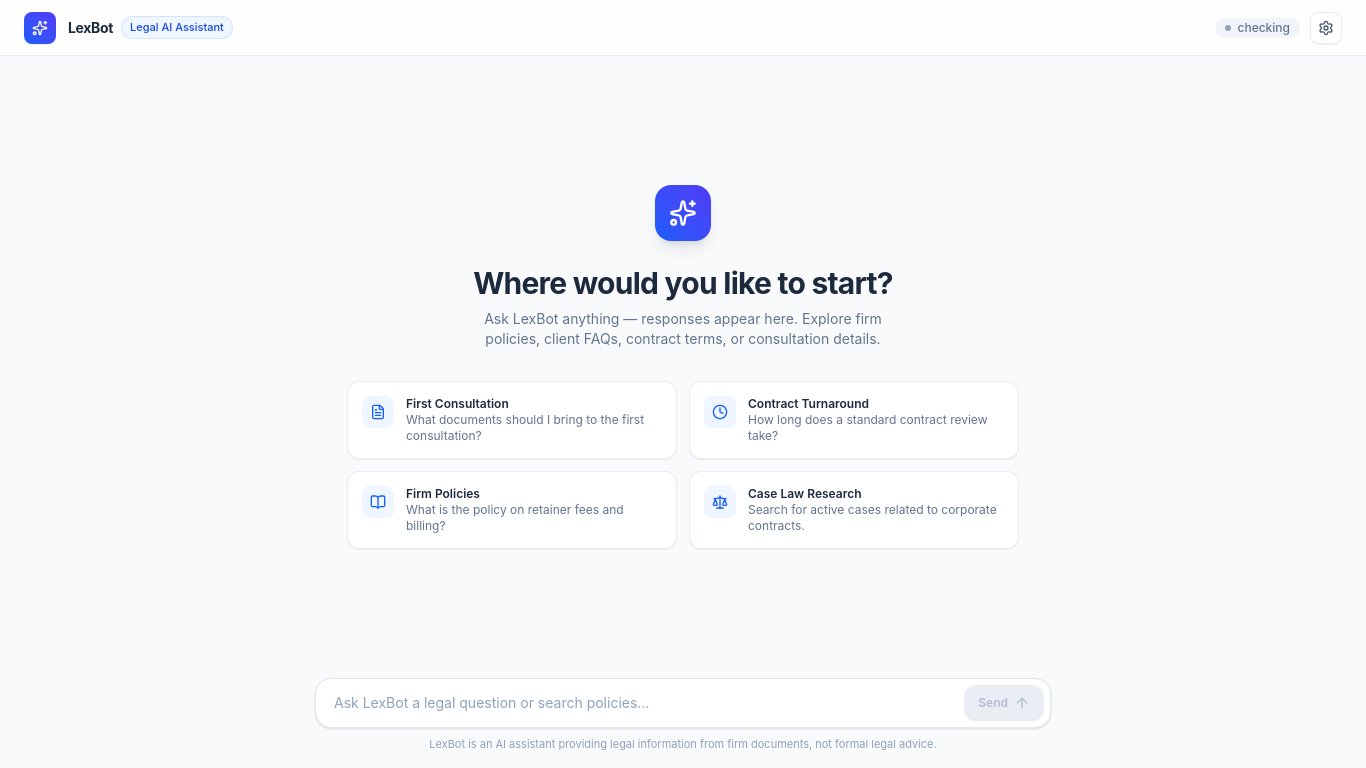
Test case: ChatView › shows an error bubble with Retry on 503 and retry renders the answer (UI-3.1)
Step 1. Type "hello" into the field named "message" → x=643, y=702, box [322,684,964,720]
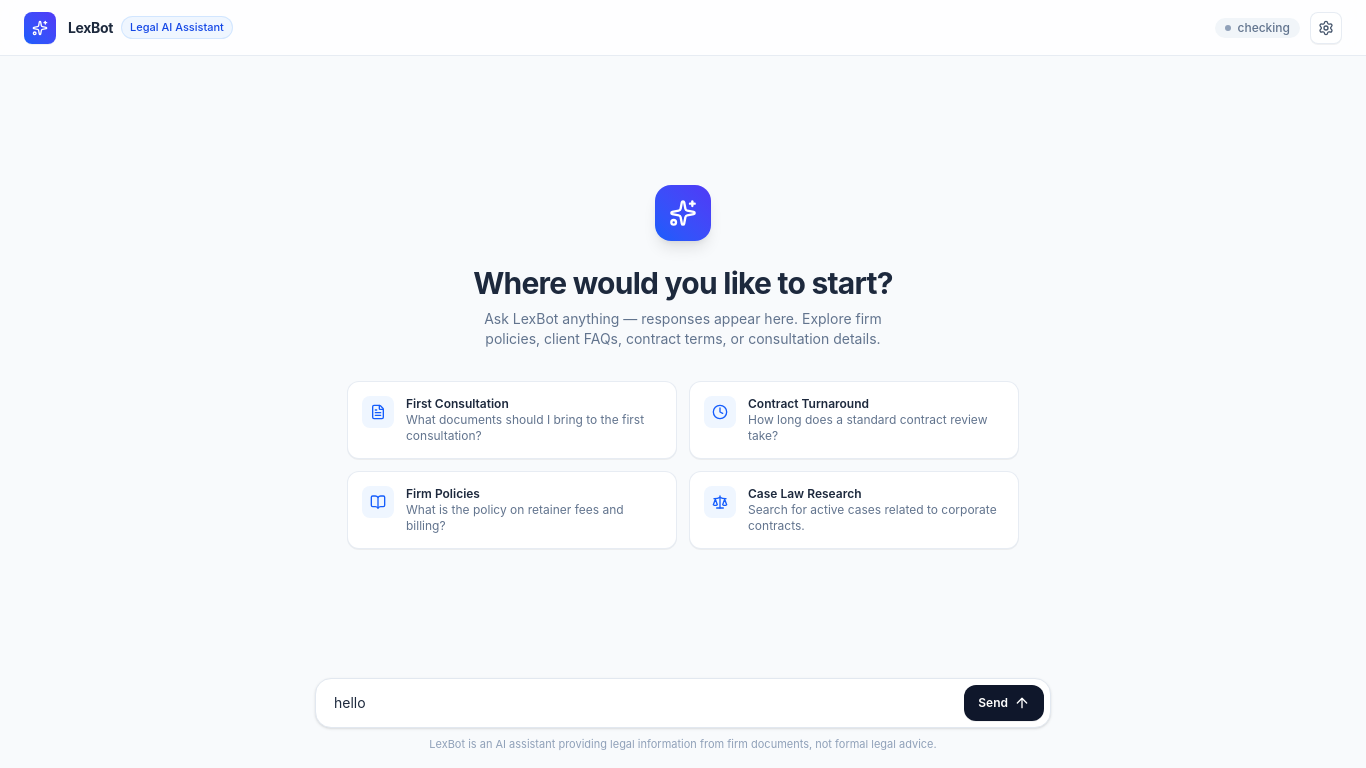
Step 2. Click the button "Send" → x=1004, y=702, box [964,684,1044,720]
Wait 500 ms
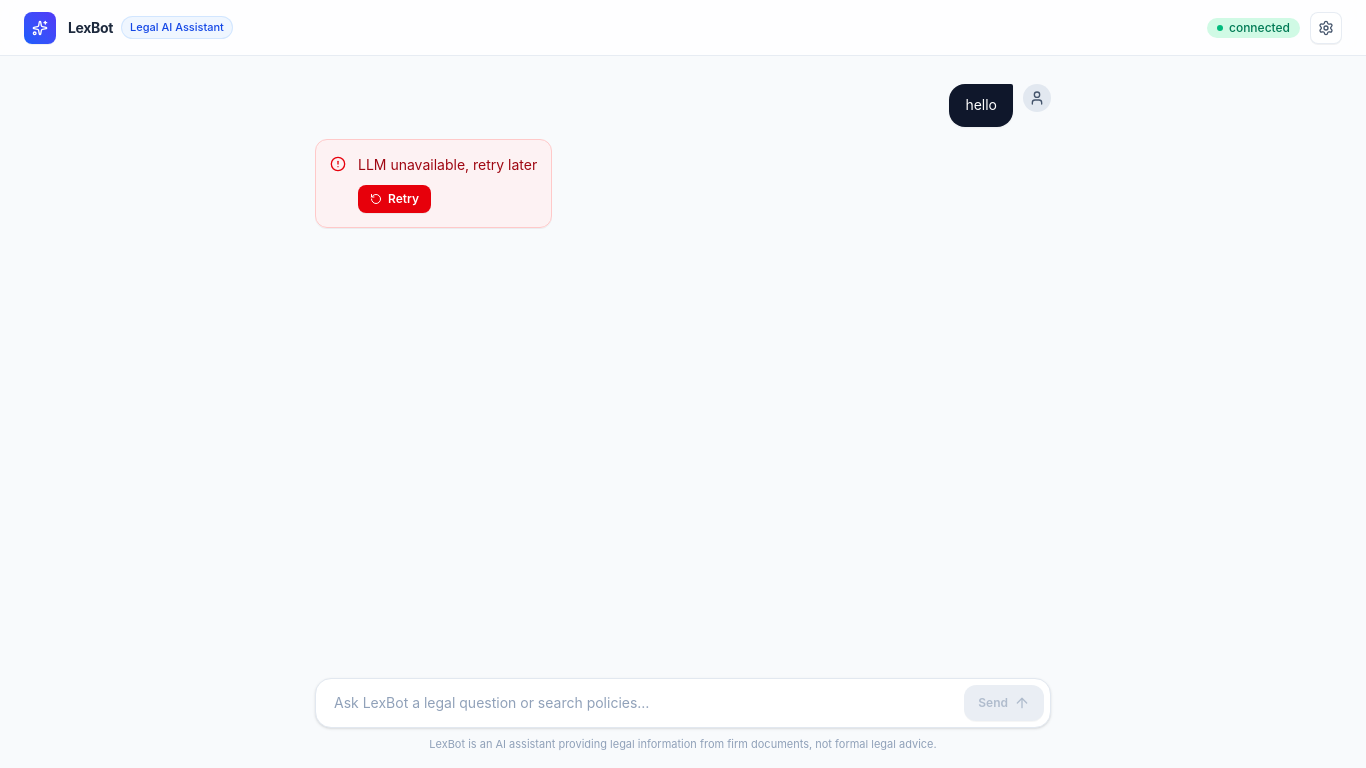
Check: the text "LLM unavailable, retry later" is shown, box [358,154,537,177]
Check: the button "Retry" is shown
Step 3. Click the button "Retry" → x=394, y=198, box [358,184,431,212]
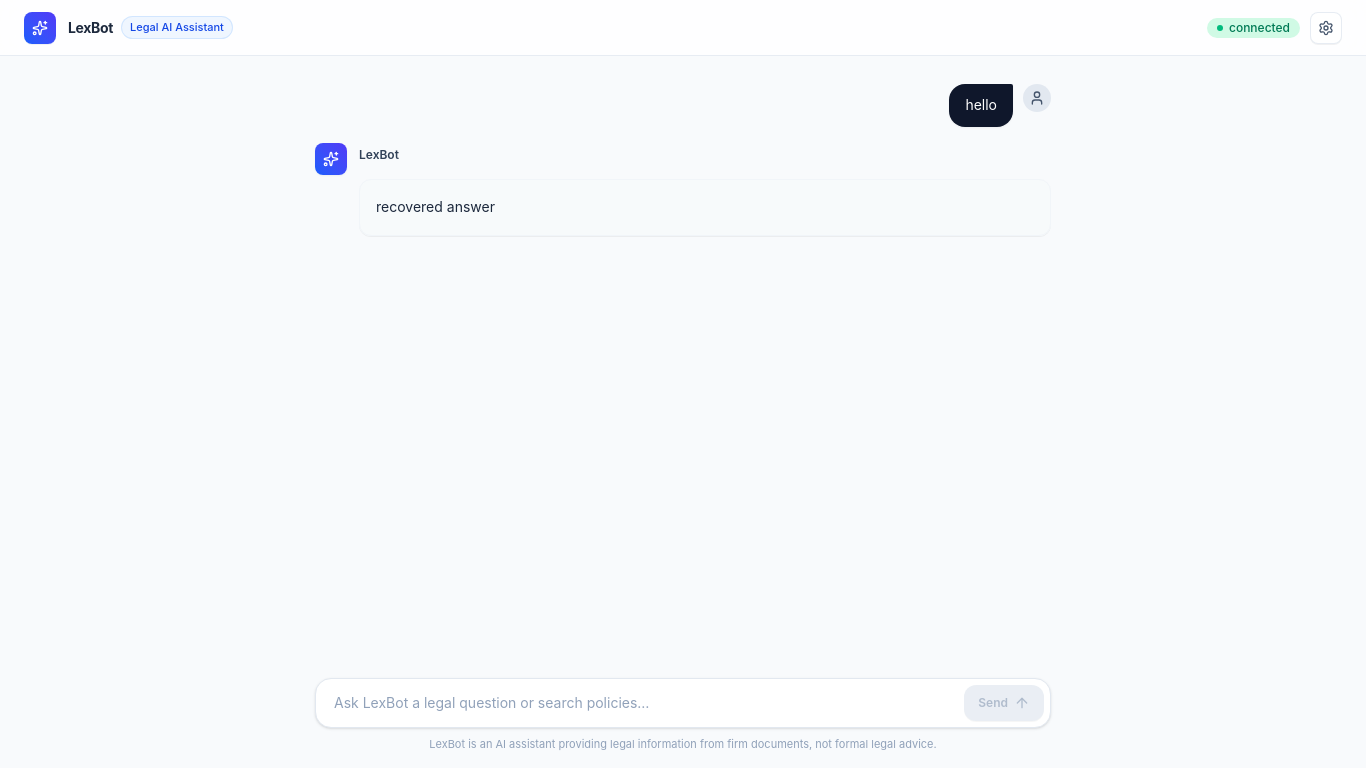
Check: the text "recovered answer" is shown, box [376,198,495,215]
Check: the text "retry" is gone
